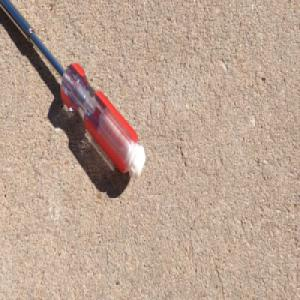Screwdriver: (0, 0, 147, 182)
